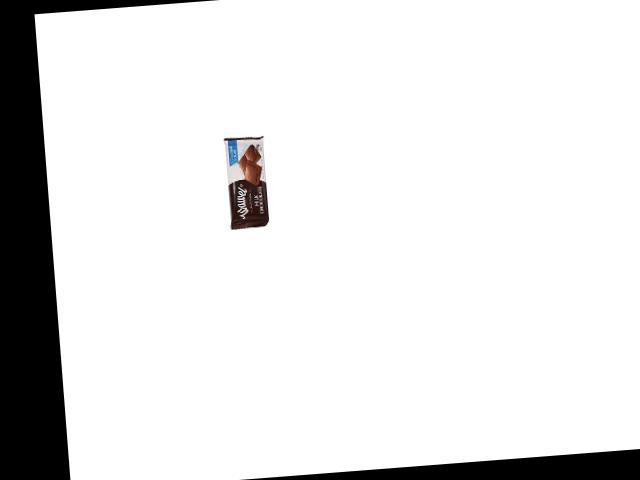chocolate: (222, 134, 272, 228)
